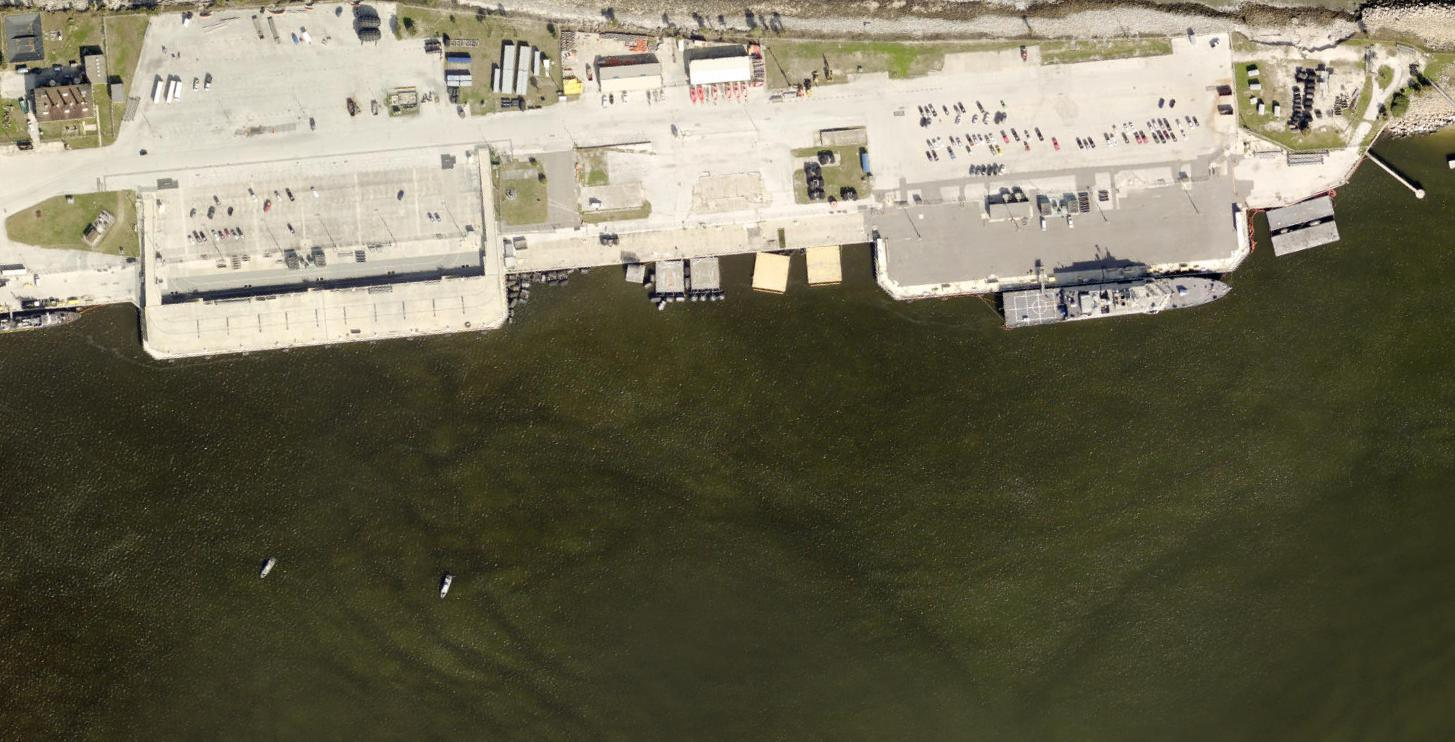patrol: (996, 268, 1243, 336)
